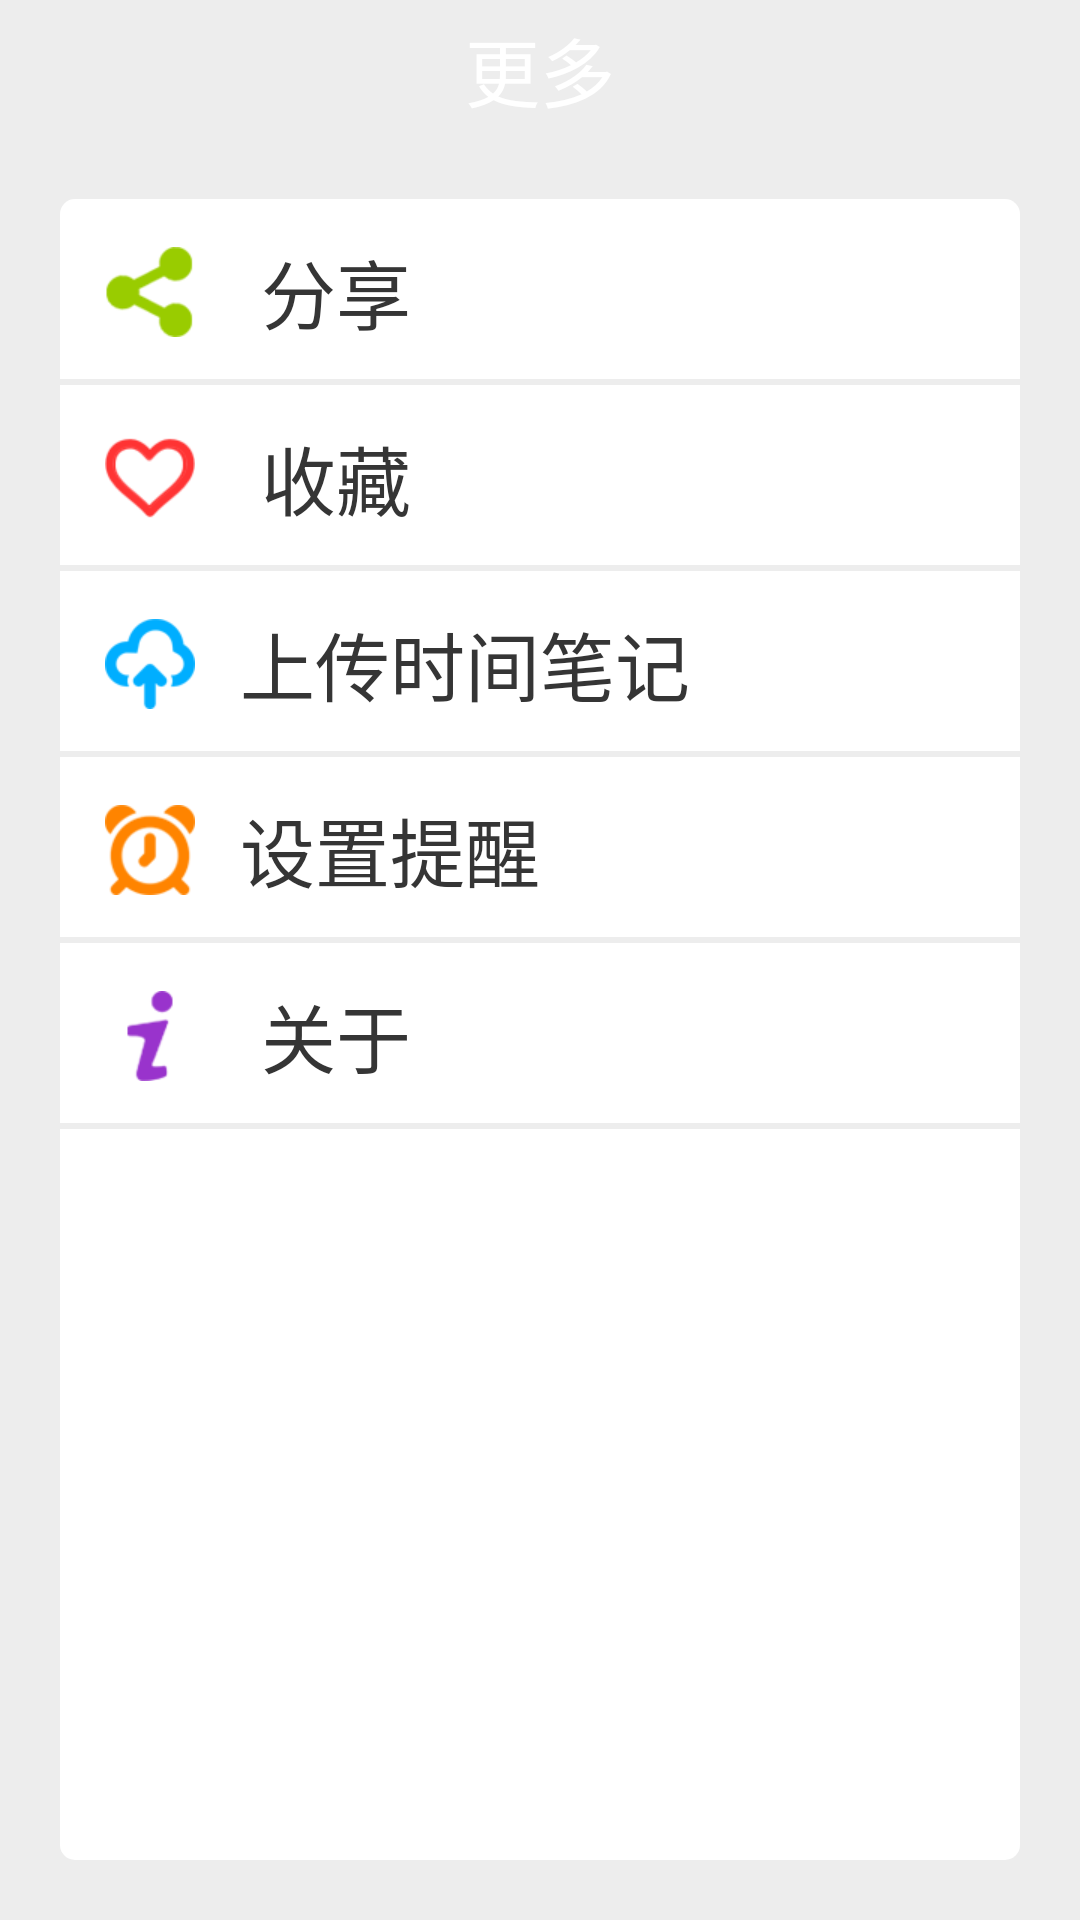

Icons on this 1080 x 1920 Android screen, each with the point to tap as [x,y]:
about: [150,1036]
alarm: [150,850]
collection: [150,478]
share: [149,292]
upload: [150,664]
